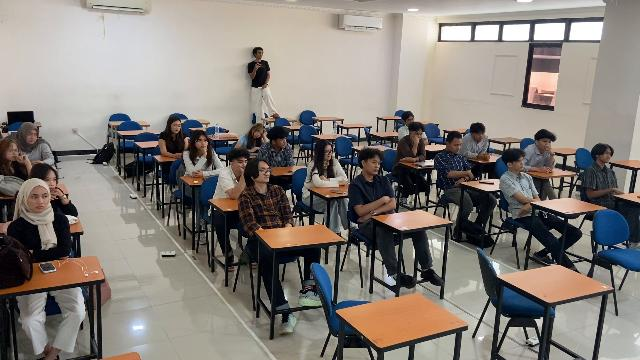bingung: (30, 190, 49, 212), (44, 172, 56, 191), (368, 156, 380, 174), (6, 145, 19, 161), (259, 164, 270, 182), (451, 137, 461, 154), (600, 148, 611, 163), (236, 156, 248, 169), (195, 138, 208, 149), (515, 158, 525, 172), (324, 145, 333, 160), (27, 132, 38, 144), (540, 138, 551, 150), (276, 137, 287, 148), (171, 122, 181, 134), (253, 129, 263, 139), (475, 132, 485, 142), (414, 130, 423, 141), (406, 116, 415, 125)
